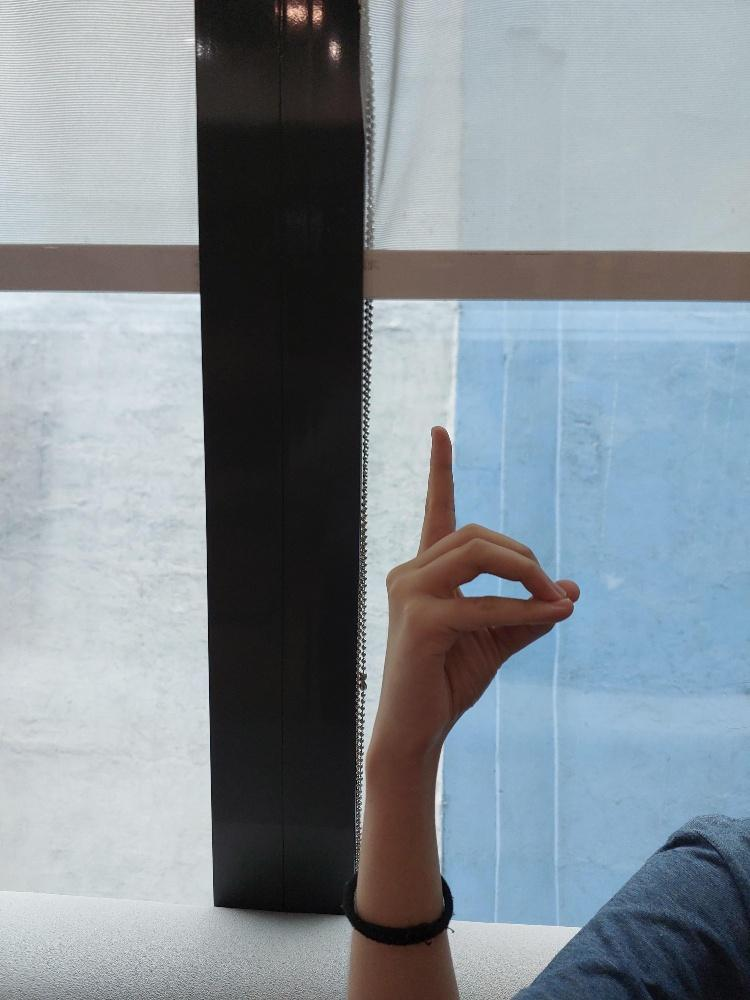d: (378, 424, 582, 743)
